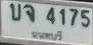letters: (10, 3, 21, 21), (24, 4, 35, 22), (46, 7, 56, 24), (81, 9, 90, 27), (69, 9, 78, 26), (60, 9, 65, 25)
province: (31, 31, 62, 41)
